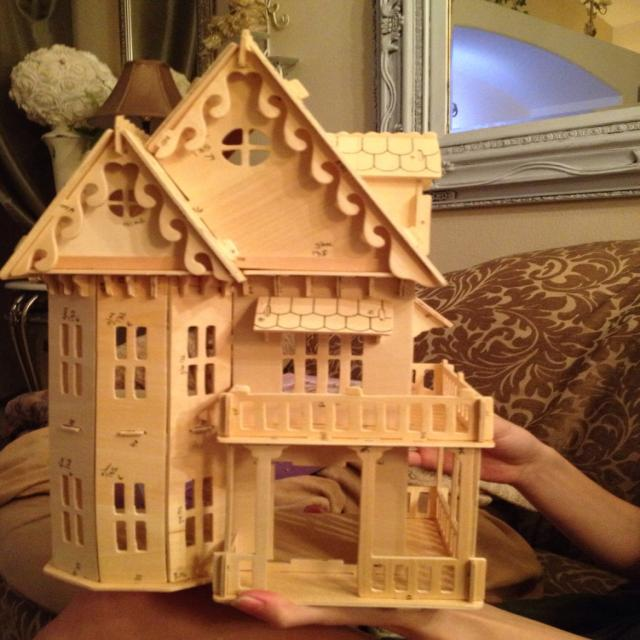Toy: (0, 28, 494, 608)
